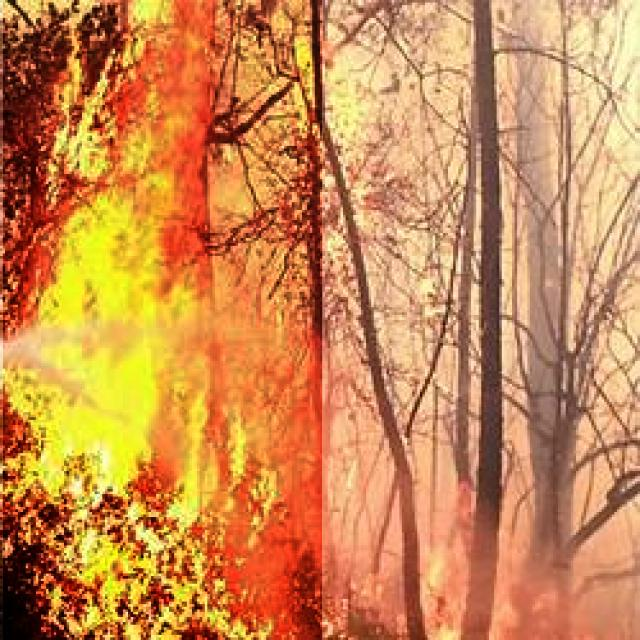Fire: (3, 0, 322, 640)
